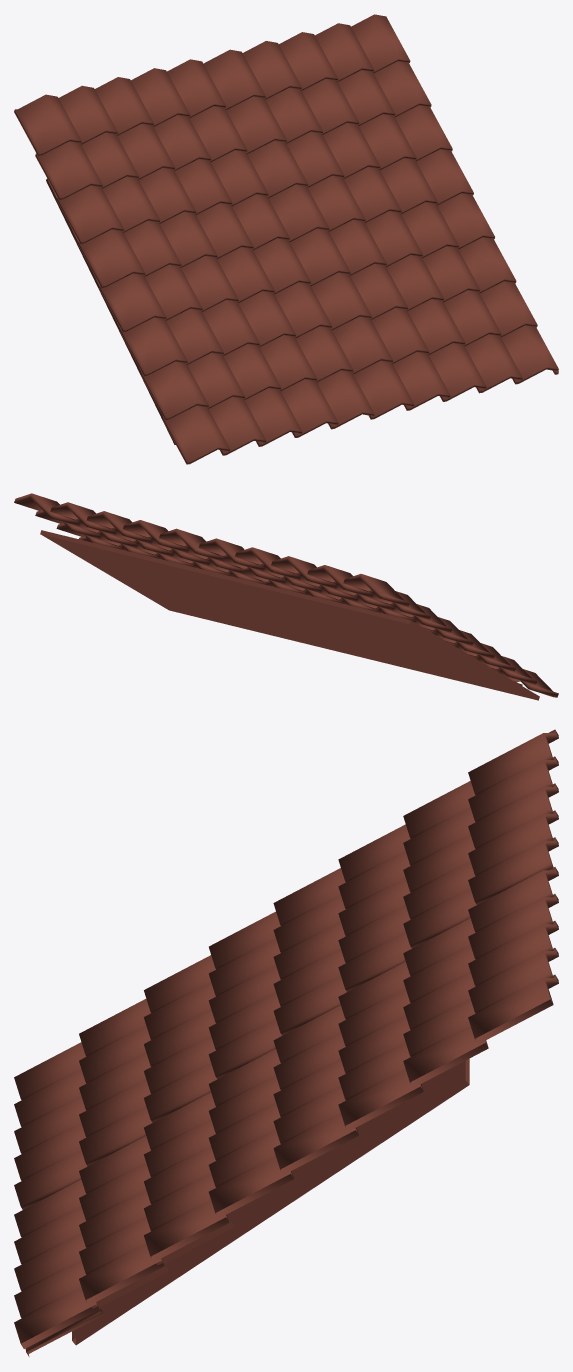
Rendered from roof-piece.fbx.
The picture shows the model from 3 angles, top to bottom: view 1: azimuth 30°, elevation 25°; view 2: azimuth 150°, elevation 25°; view 3: azimuth 270°, elevation 25°; orthographic projection. The views are drawn at different scales.
Parts seen in each view (by area): view 1: Cube.030; view 2: Cube.030; view 3: Cube.030.
Part boxes in pixels (left/top/right/bottom): Cube.030: left=14, top=14, right=558, bottom=464; Cube.030: left=14, top=493, right=558, bottom=700; Cube.030: left=14, top=729, right=558, bottom=1356.
Bounding box in the file's own units: 203 × 125 × 168.
